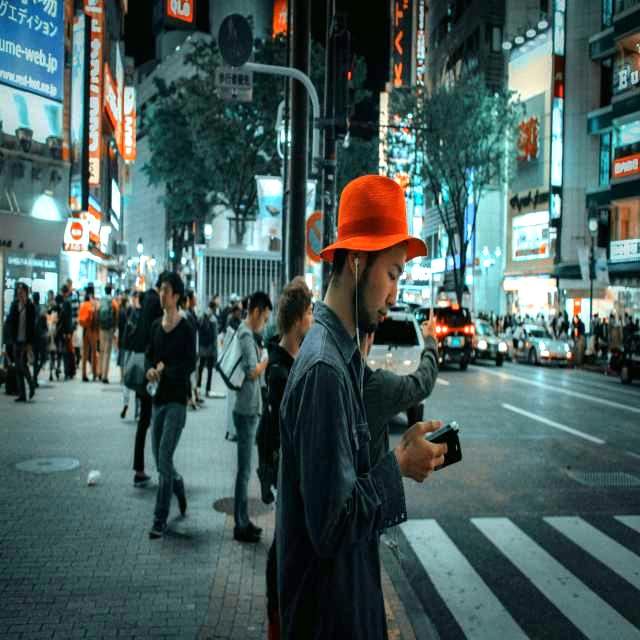no_hard_hat: (320, 175, 427, 261), (277, 276, 311, 332), (207, 298, 216, 312)
no_head_wear: (164, 271, 185, 297), (249, 291, 272, 314)
person: (275, 176, 446, 640), (145, 273, 196, 538), (360, 304, 442, 467), (266, 276, 313, 488), (233, 291, 271, 542), (4, 282, 36, 402), (196, 300, 218, 403), (97, 283, 118, 384)
